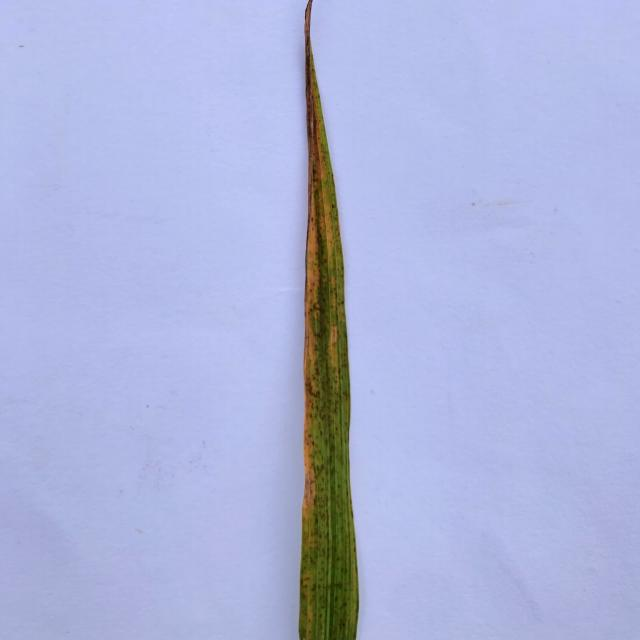tungro: (303, 12, 357, 537)
